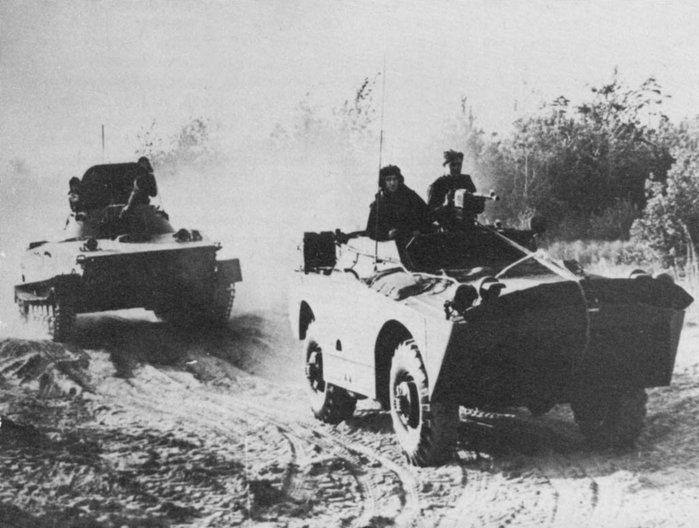MIL_IFV: (291, 150, 693, 468), (11, 159, 244, 345)
